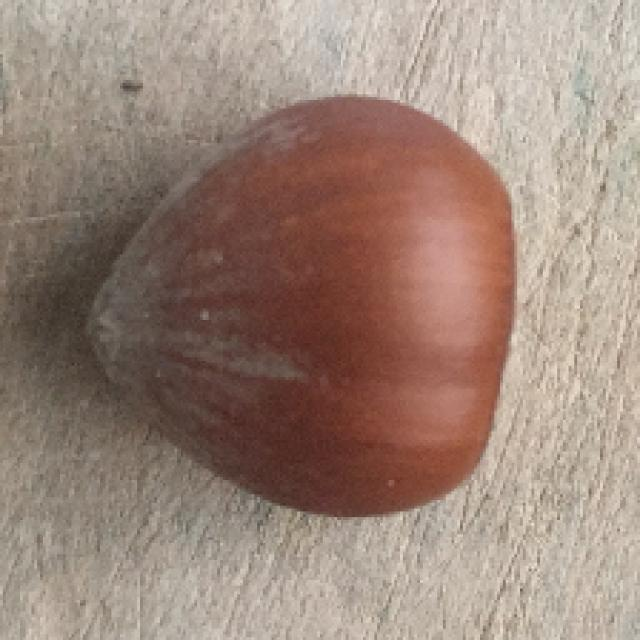qualityHazelnut: (83, 84, 516, 522)
